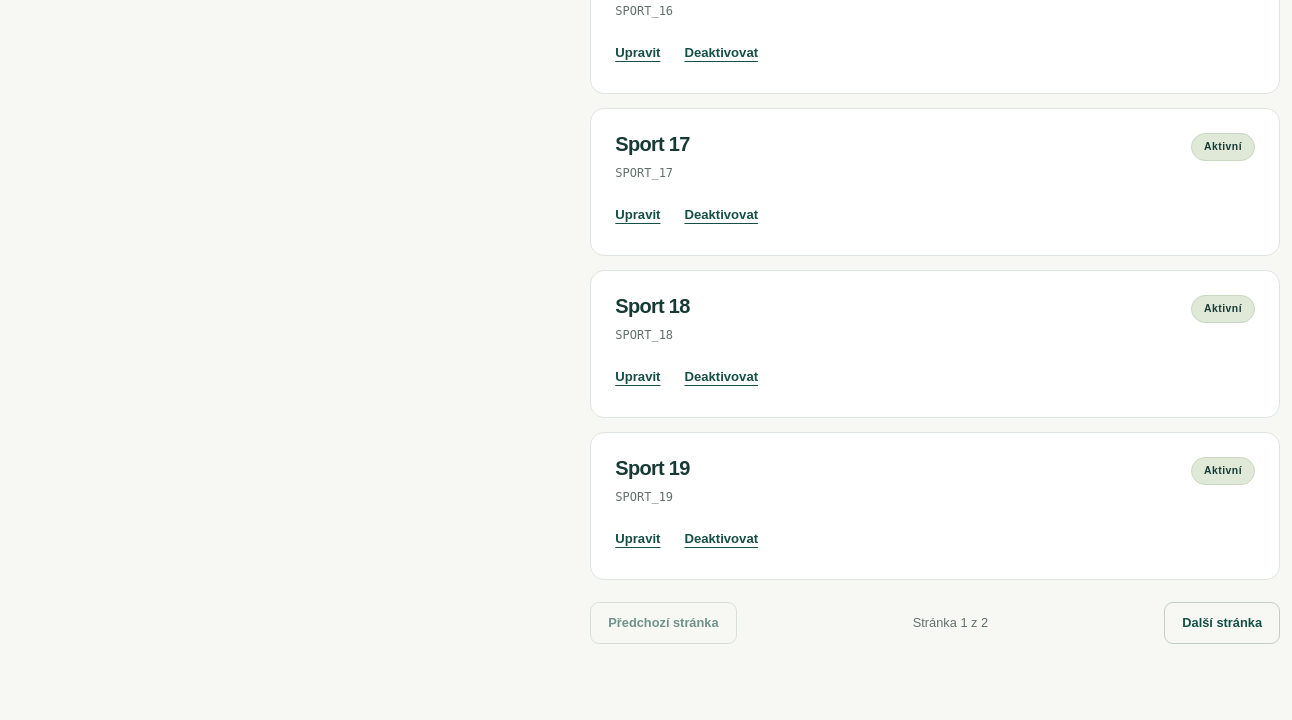
P1 sports administration › stránkuje od nuly s velikostí 20 a nezobrazuje předchozí stránku jako novou
This screenshot has width=1292, height=720.
(page scrolled)
Click the button "Další stránka" at (1222, 623), box [1164,602,1280,644]
(page scrolled)
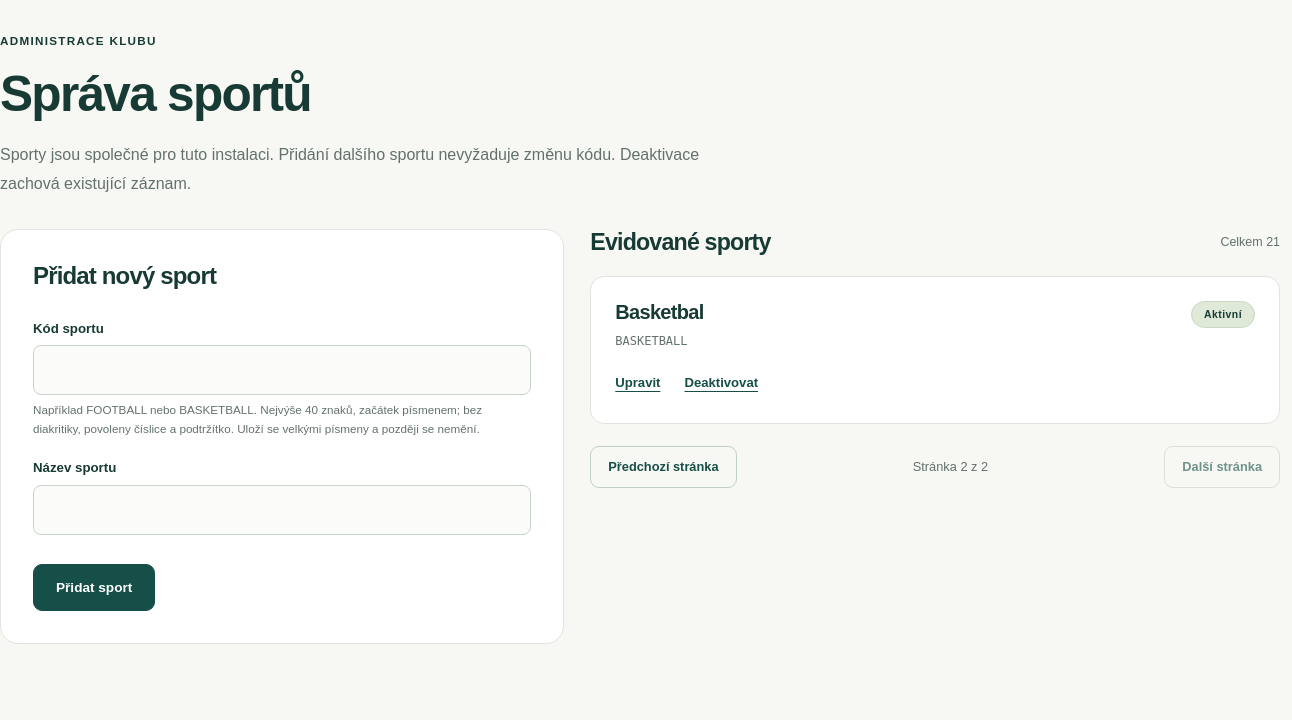
Result: the element "Basketbal" is shown at [590,276,1280,424]
Result: the button "Další stránka" is disabled at [1164,446,1280,488]
